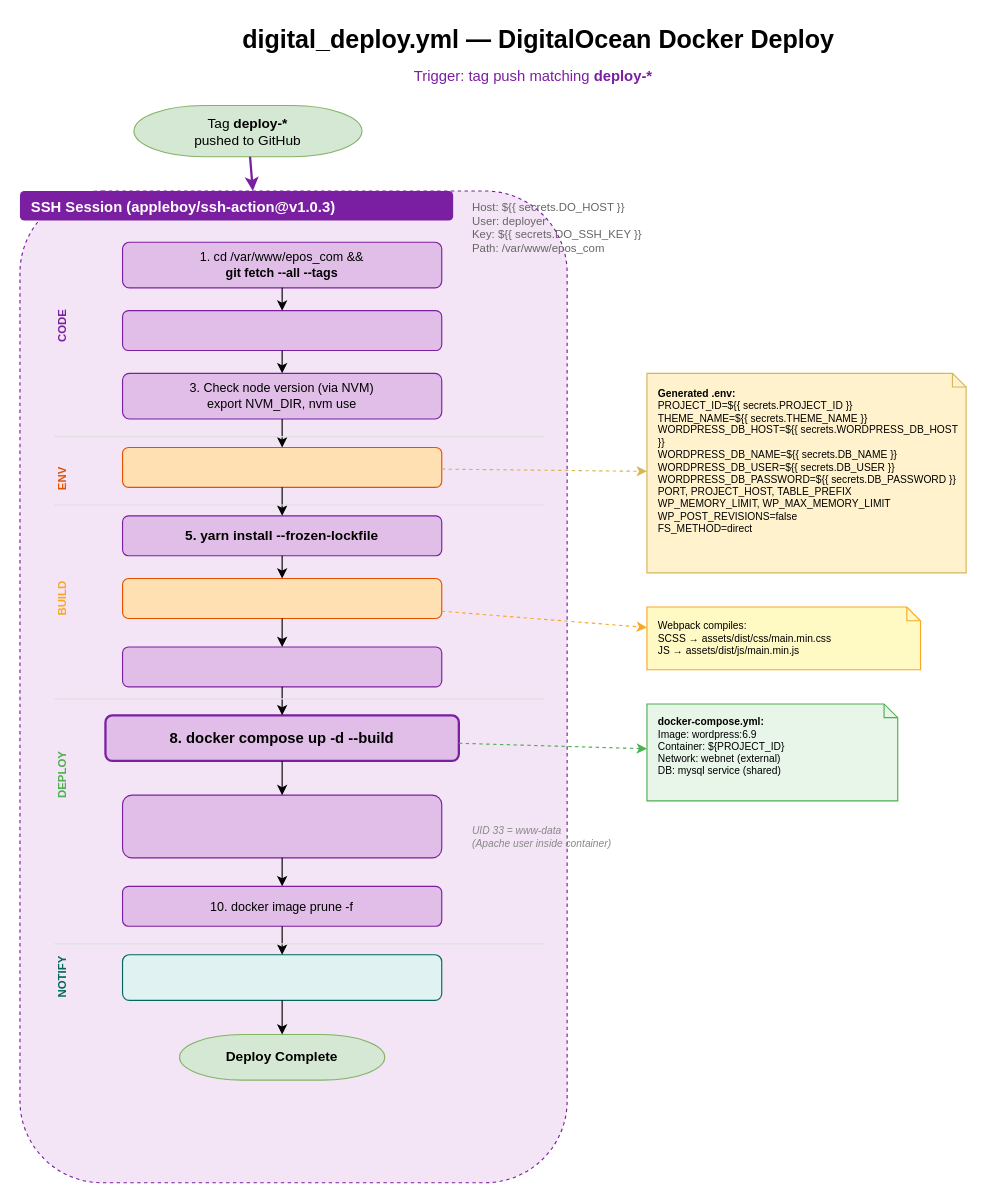
Image size: 986x1203. Some labels were removed from this diagram. The shapes that lost their labels are listed below. From the top down, each one's centre as x and y in pixels, then its label:
point 281,330: 2. git reset --hard origin/production
point 281,466: 4. Generate .env from GitHub Secrets
point 281,597: 6. yarn build
point 281,666: 7. rm -rf node_modules && yarn cache clean
point 281,826: 9. Fix permissions chown -R 33:33 src/wp-content chmod -R 775 src/wp-content
point 281,977: 11. Send Telegram "Deploy success" + live link
